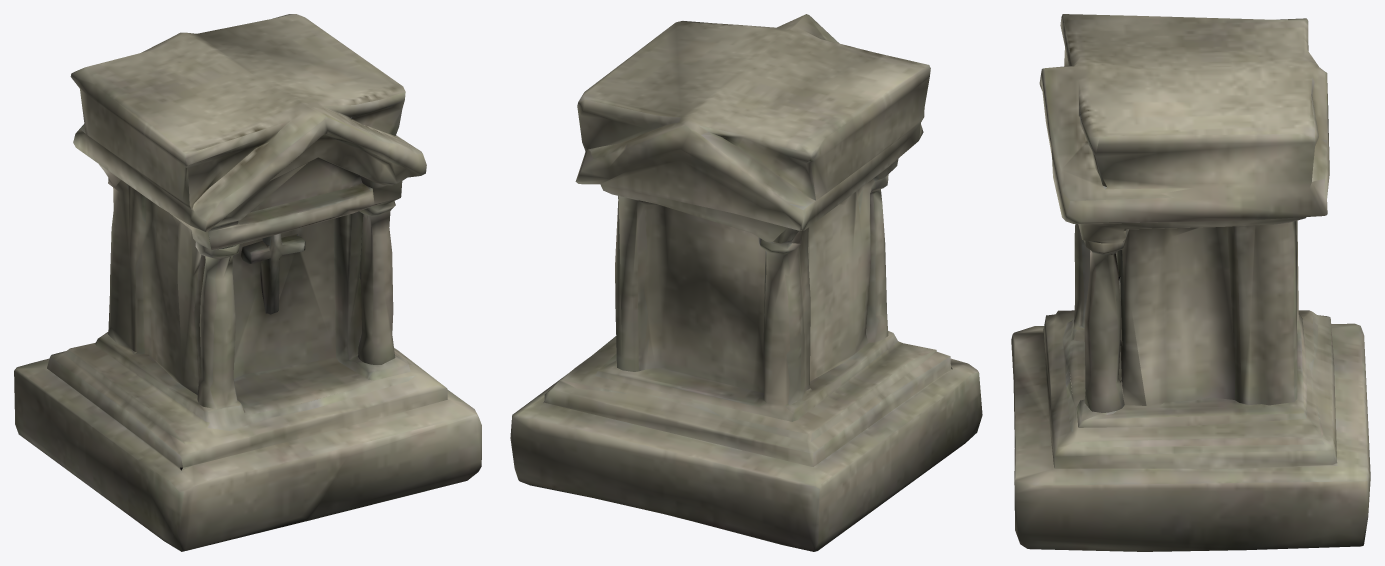
Rendered from plain-limestone-shrine-v001.glb.
The picture shows the model from 3 angles, left to right: view 1: azimuth 30°, elevation 25°; view 2: azimuth 150°, elevation 25°; view 3: azimuth 270°, elevation 25°; orthographic projection. The views are drawn at different scales.
Visible parts, largest first — view 1: plain-limestone-shrine; view 2: plain-limestone-shrine; view 3: plain-limestone-shrine.
Boxes of the visible parts, box(x1,y1,x2,y2) form: plain-limestone-shrine: box(14, 14, 481, 551); plain-limestone-shrine: box(510, 14, 982, 551); plain-limestone-shrine: box(1011, 14, 1370, 551).
Size of the model in its own units: 0.9531 by 1.15 by 0.9091.
Materials: 1 (1 with a texture image).
